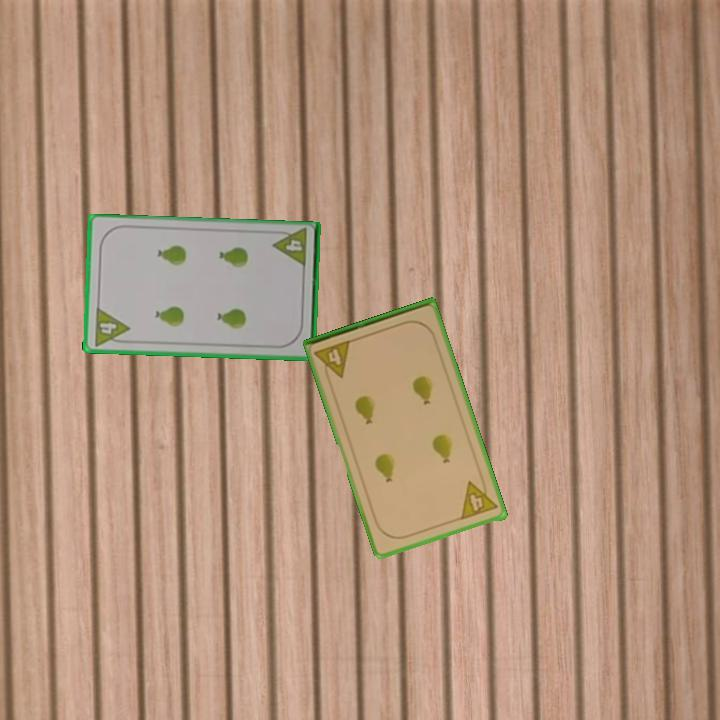4p: (457, 475, 500, 523), (311, 336, 354, 384), (90, 304, 132, 349), (270, 226, 310, 270)
